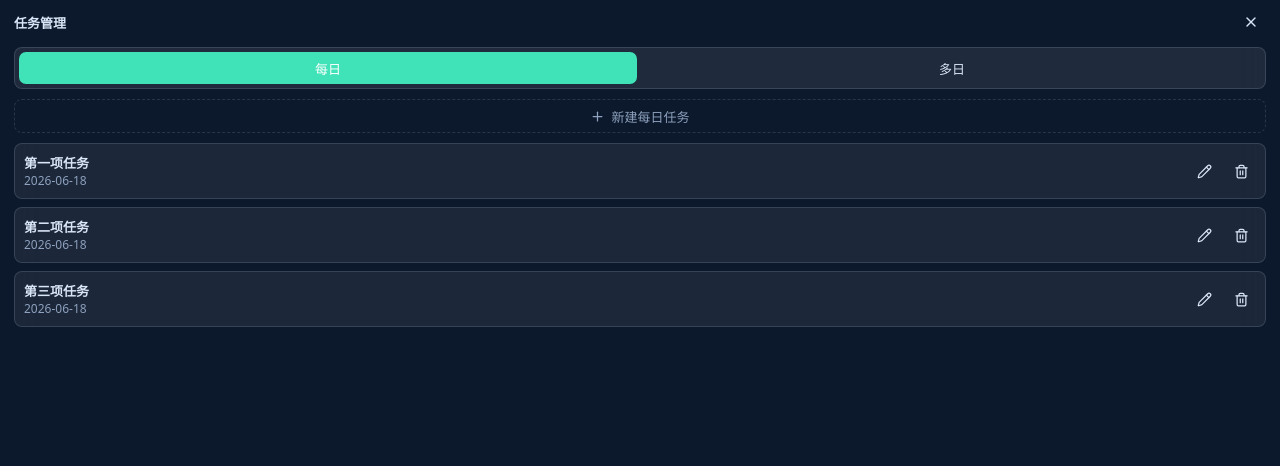
Test: TaskManagePanel › keeps an expanded middle editor in its own list row and scrolls it into view
This screenshot has width=1280, height=466.
Step 1. Click the button named "编辑" in the row of "第二项任务" → {"x": 1204, "y": 235}, box [1189, 220, 1219, 250]
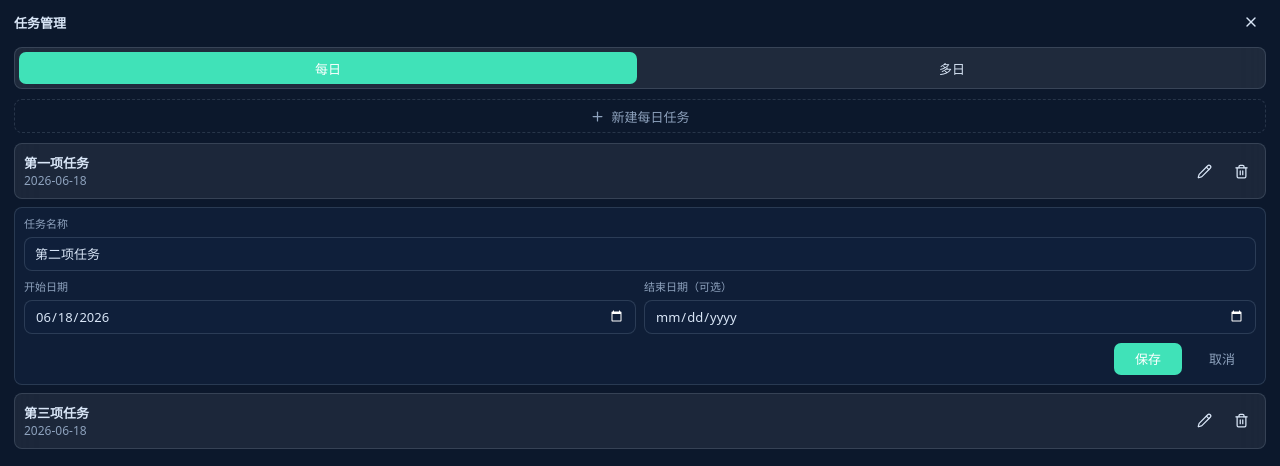
Expected: the number of elements with class "routine-row" is 3, [14, 143, 1266, 199]; [14, 207, 1266, 385]; [14, 393, 1266, 449]
Now the element with class "routine-row" has class "editing", box [14, 207, 1266, 385]
Step 2. Click the button "取消" → {"x": 1222, "y": 359}, box [1188, 343, 1256, 375]
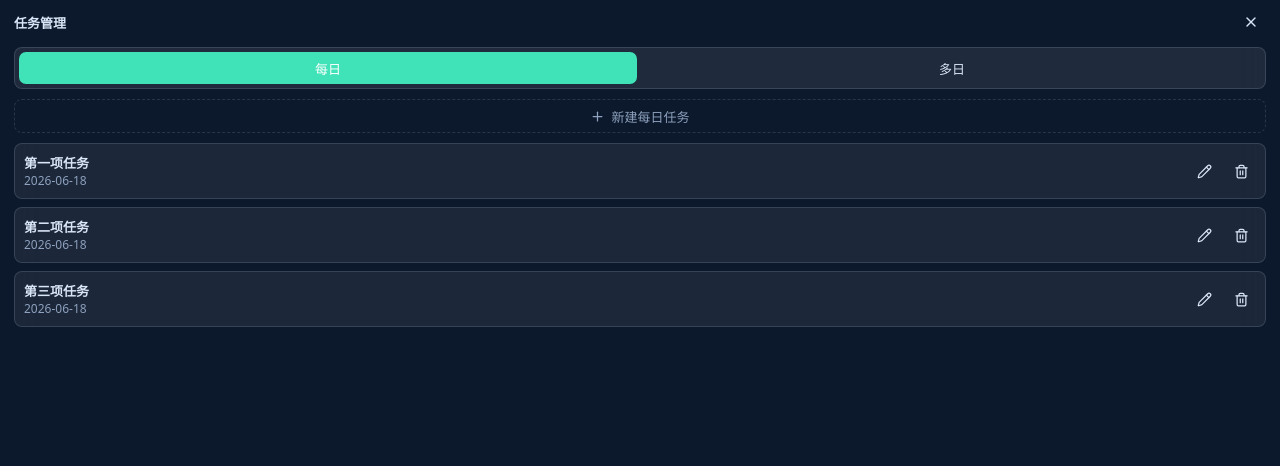
Now the field labelled "编辑任务标题" is gone
